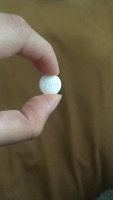Parol: (38, 74, 62, 95)
